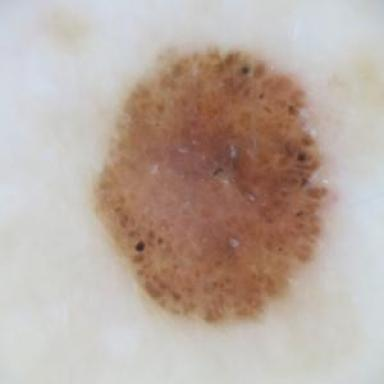Melanoma: (95, 50, 328, 322)
